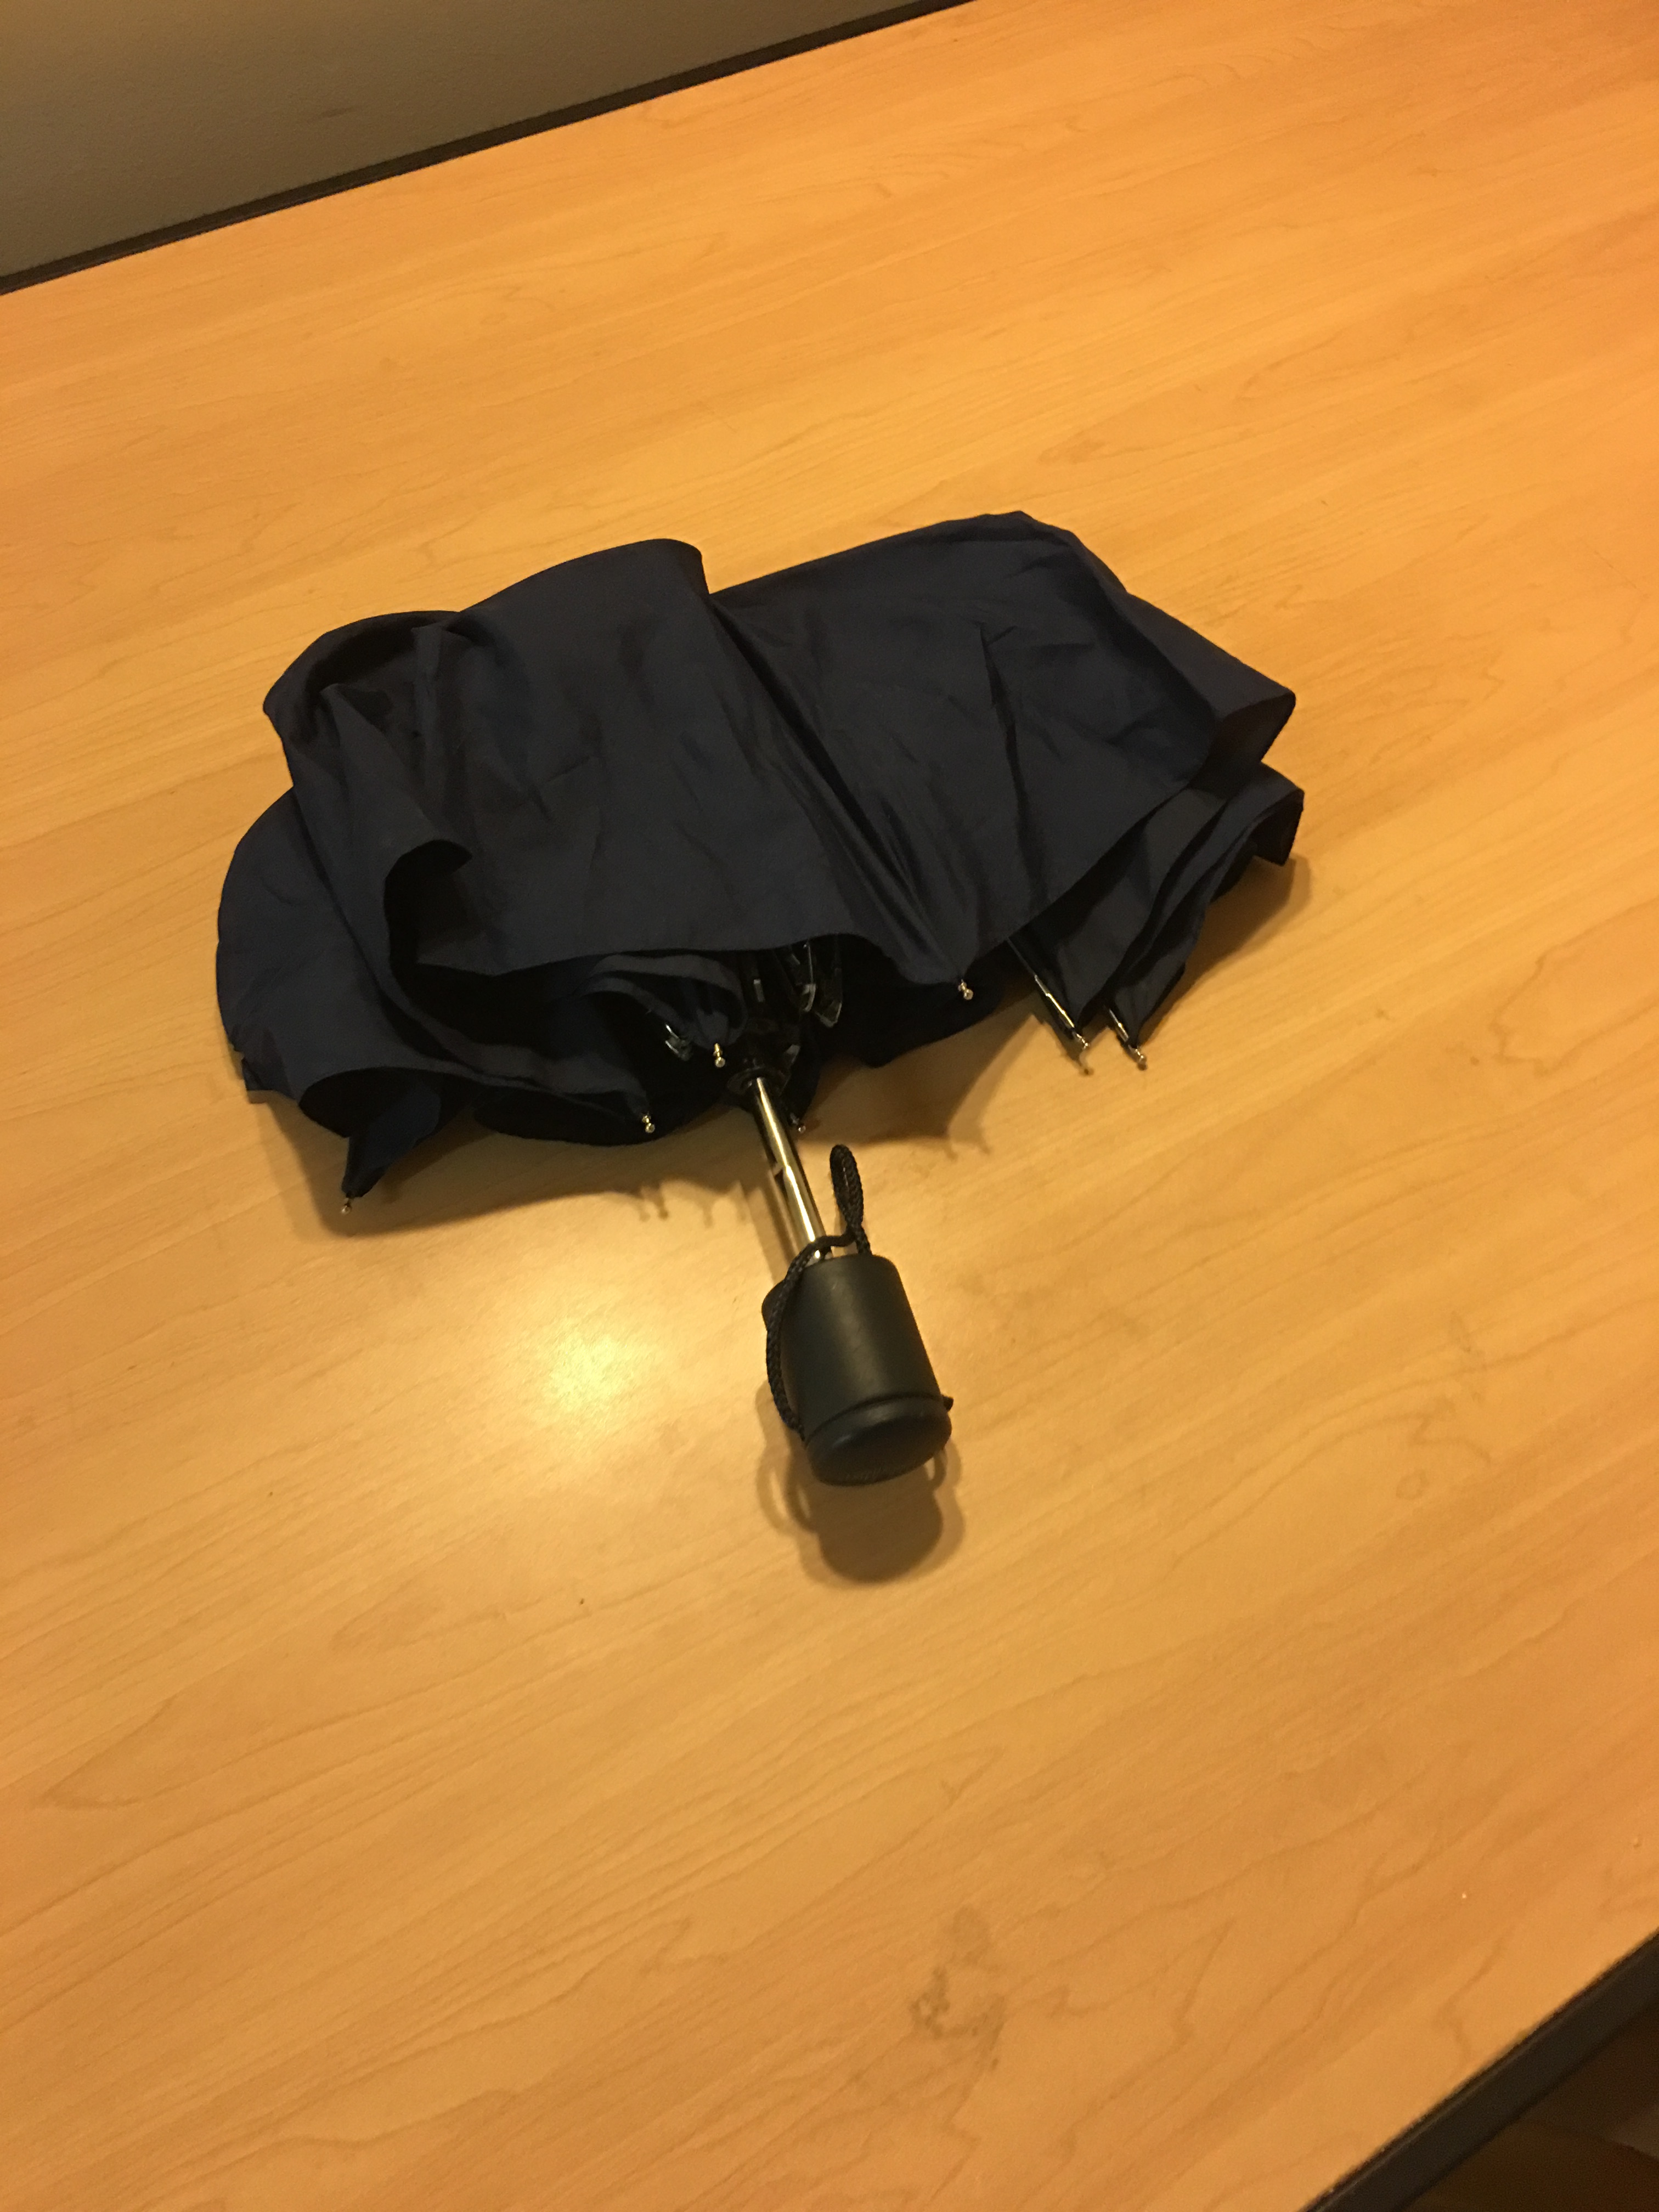Umbrella: (213, 493, 1317, 1496)
